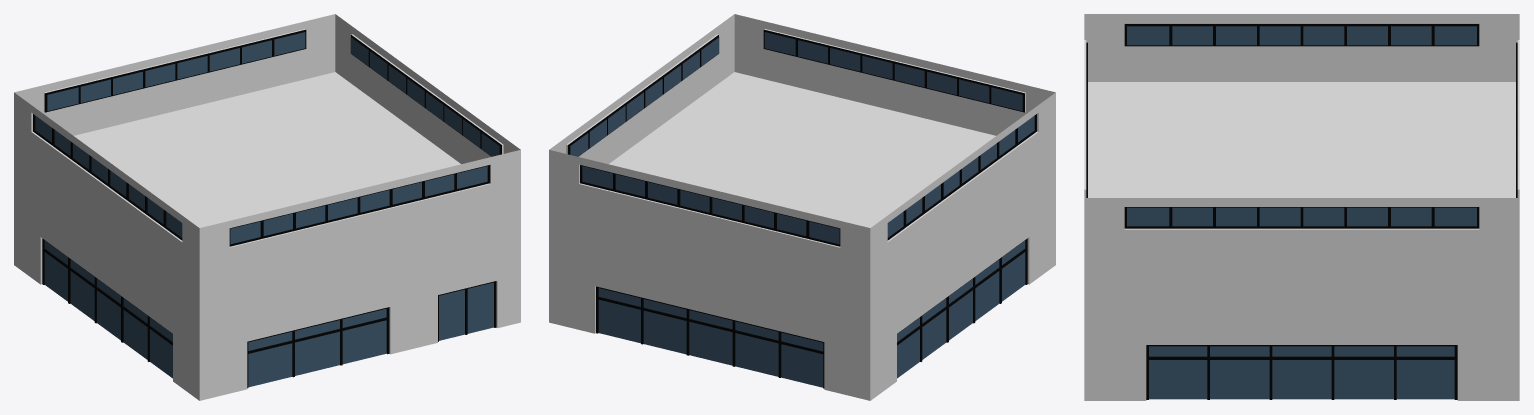
Rendered from BGC 4.fbx.
3 renders of one model, left to right at view 1: azimuth 30°, elevation 25°; view 2: azimuth 150°, elevation 25°; view 3: azimuth 270°, elevation 25°, orthographic. The views are drawn at different scales.
Parts seen in each view (by area): view 1: BGC4_Roof, BGC4_Floor_Main, BGC4_Base_Main, BGC4_Base_Windows, BGC4_Floor_Windows, BGC4_Floor_Frame, BGC4_Base_Frame; view 2: BGC4_Roof, BGC4_Floor_Main, BGC4_Base_Windows, BGC4_Floor_Windows, BGC4_Base_Main, BGC4_Floor_Frame, BGC4_Base_Frame; view 3: BGC4_Roof, BGC4_Floor_Main, BGC4_Base_Windows, BGC4_Floor_Windows, BGC4_Base_Main, BGC4_Floor_Frame, BGC4_Base_Frame.
Part boxes in pixels (<box>): BGC4_Roof: <box>14,72,520,343</box>; BGC4_Floor_Main: <box>14,14,520,285</box>; BGC4_Base_Main: <box>14,208,520,400</box>; BGC4_Base_Windows: <box>44,240,493,387</box>; BGC4_Floor_Windows: <box>35,32,499,244</box>; BGC4_Floor_Frame: <box>33,29,501,246</box>; BGC4_Base_Frame: <box>42,238,496,388</box>; BGC4_Roof: <box>549,72,1055,343</box>; BGC4_Floor_Main: <box>549,14,1055,285</box>; BGC4_Base_Windows: <box>598,240,1025,387</box>; BGC4_Floor_Windows: <box>570,32,1034,244</box>; BGC4_Base_Main: <box>549,208,1055,400</box>; BGC4_Floor_Frame: <box>568,29,1036,246</box>; BGC4_Base_Frame: <box>596,238,1027,388</box>; BGC4_Roof: <box>1084,82,1519,334</box>; BGC4_Floor_Main: <box>1084,14,1519,266</box>; BGC4_Base_Windows: <box>1149,346,1454,399</box>; BGC4_Floor_Windows: <box>1127,26,1476,226</box>; BGC4_Base_Main: <box>1084,333,1519,400</box>; BGC4_Floor_Frame: <box>1086,23,1517,228</box>; BGC4_Base_Frame: <box>1146,345,1457,399</box>.
Bounding box in the file's own units: 1665 × 856 × 1665.
